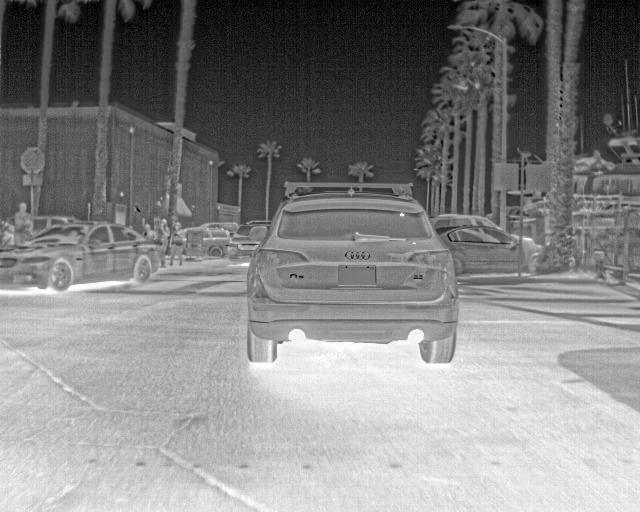bicycle: (246, 180, 458, 362), (0, 220, 163, 291), (437, 226, 544, 274), (174, 225, 232, 257), (226, 222, 272, 262), (429, 211, 500, 228)
empty: (13, 201, 34, 242), (168, 220, 186, 265), (155, 217, 170, 268)
